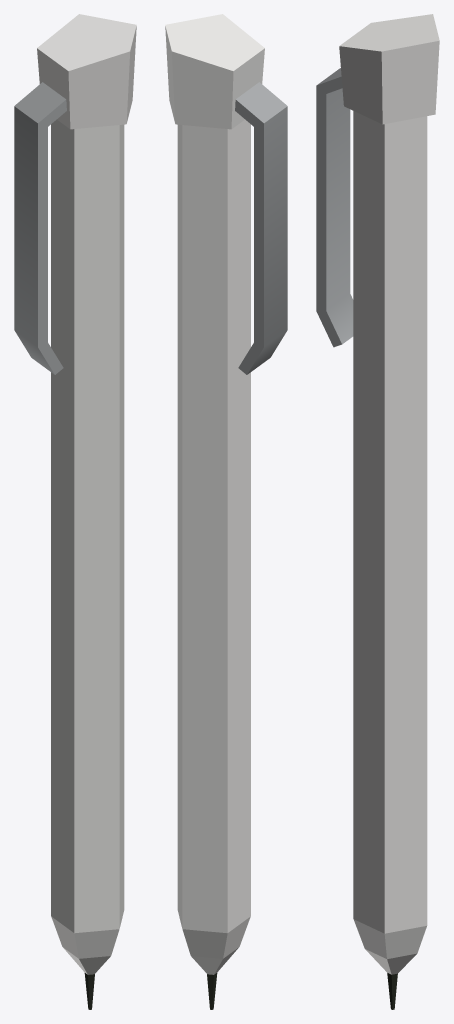
The model's file is SM_pen_02.fbx.
3 renders of one model, left to right at view 1: azimuth 30°, elevation 25°; view 2: azimuth 150°, elevation 25°; view 3: azimuth 330°, elevation 25°, orthographic.
Parts seen in each view (by area): view 1: Cylinder010; view 2: Cylinder010; view 3: Cylinder010.
Part boxes in pixels (x1,y1,x2,y2): Cylinder010: [14, 14, 136, 1009]; Cylinder010: [165, 14, 287, 1009]; Cylinder010: [316, 14, 439, 1009].
Bounding box in the file's own units: 1.03 × 8.67 × 0.824.
